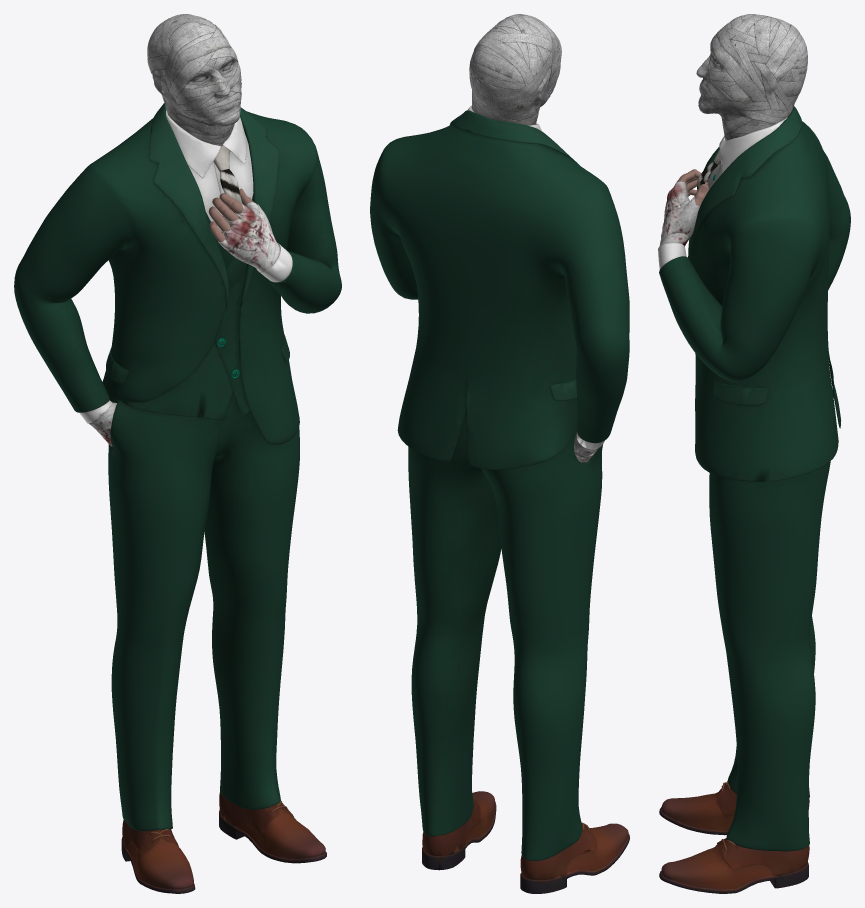
The model's file is Hector-hambg.glb.
3 renders of one model, left to right at view 1: azimuth 30°, elevation 25°; view 2: azimuth 150°, elevation 25°; view 3: azimuth 270°, elevation 25°, orthographic.
Visible parts, largest first — view 1: Hector (×2); view 2: Hector (×2); view 3: Hector (×2).
Part boxes in pixels (x1,y1,x2,y2): Hector (×2): [14, 14, 341, 893]; Hector (×2): [370, 14, 629, 893]; Hector (×2): [658, 14, 850, 893].
Size of the model in its own units: 0.614 by 1.77 by 0.371.
Materials: 3 (2 with a texture image).
